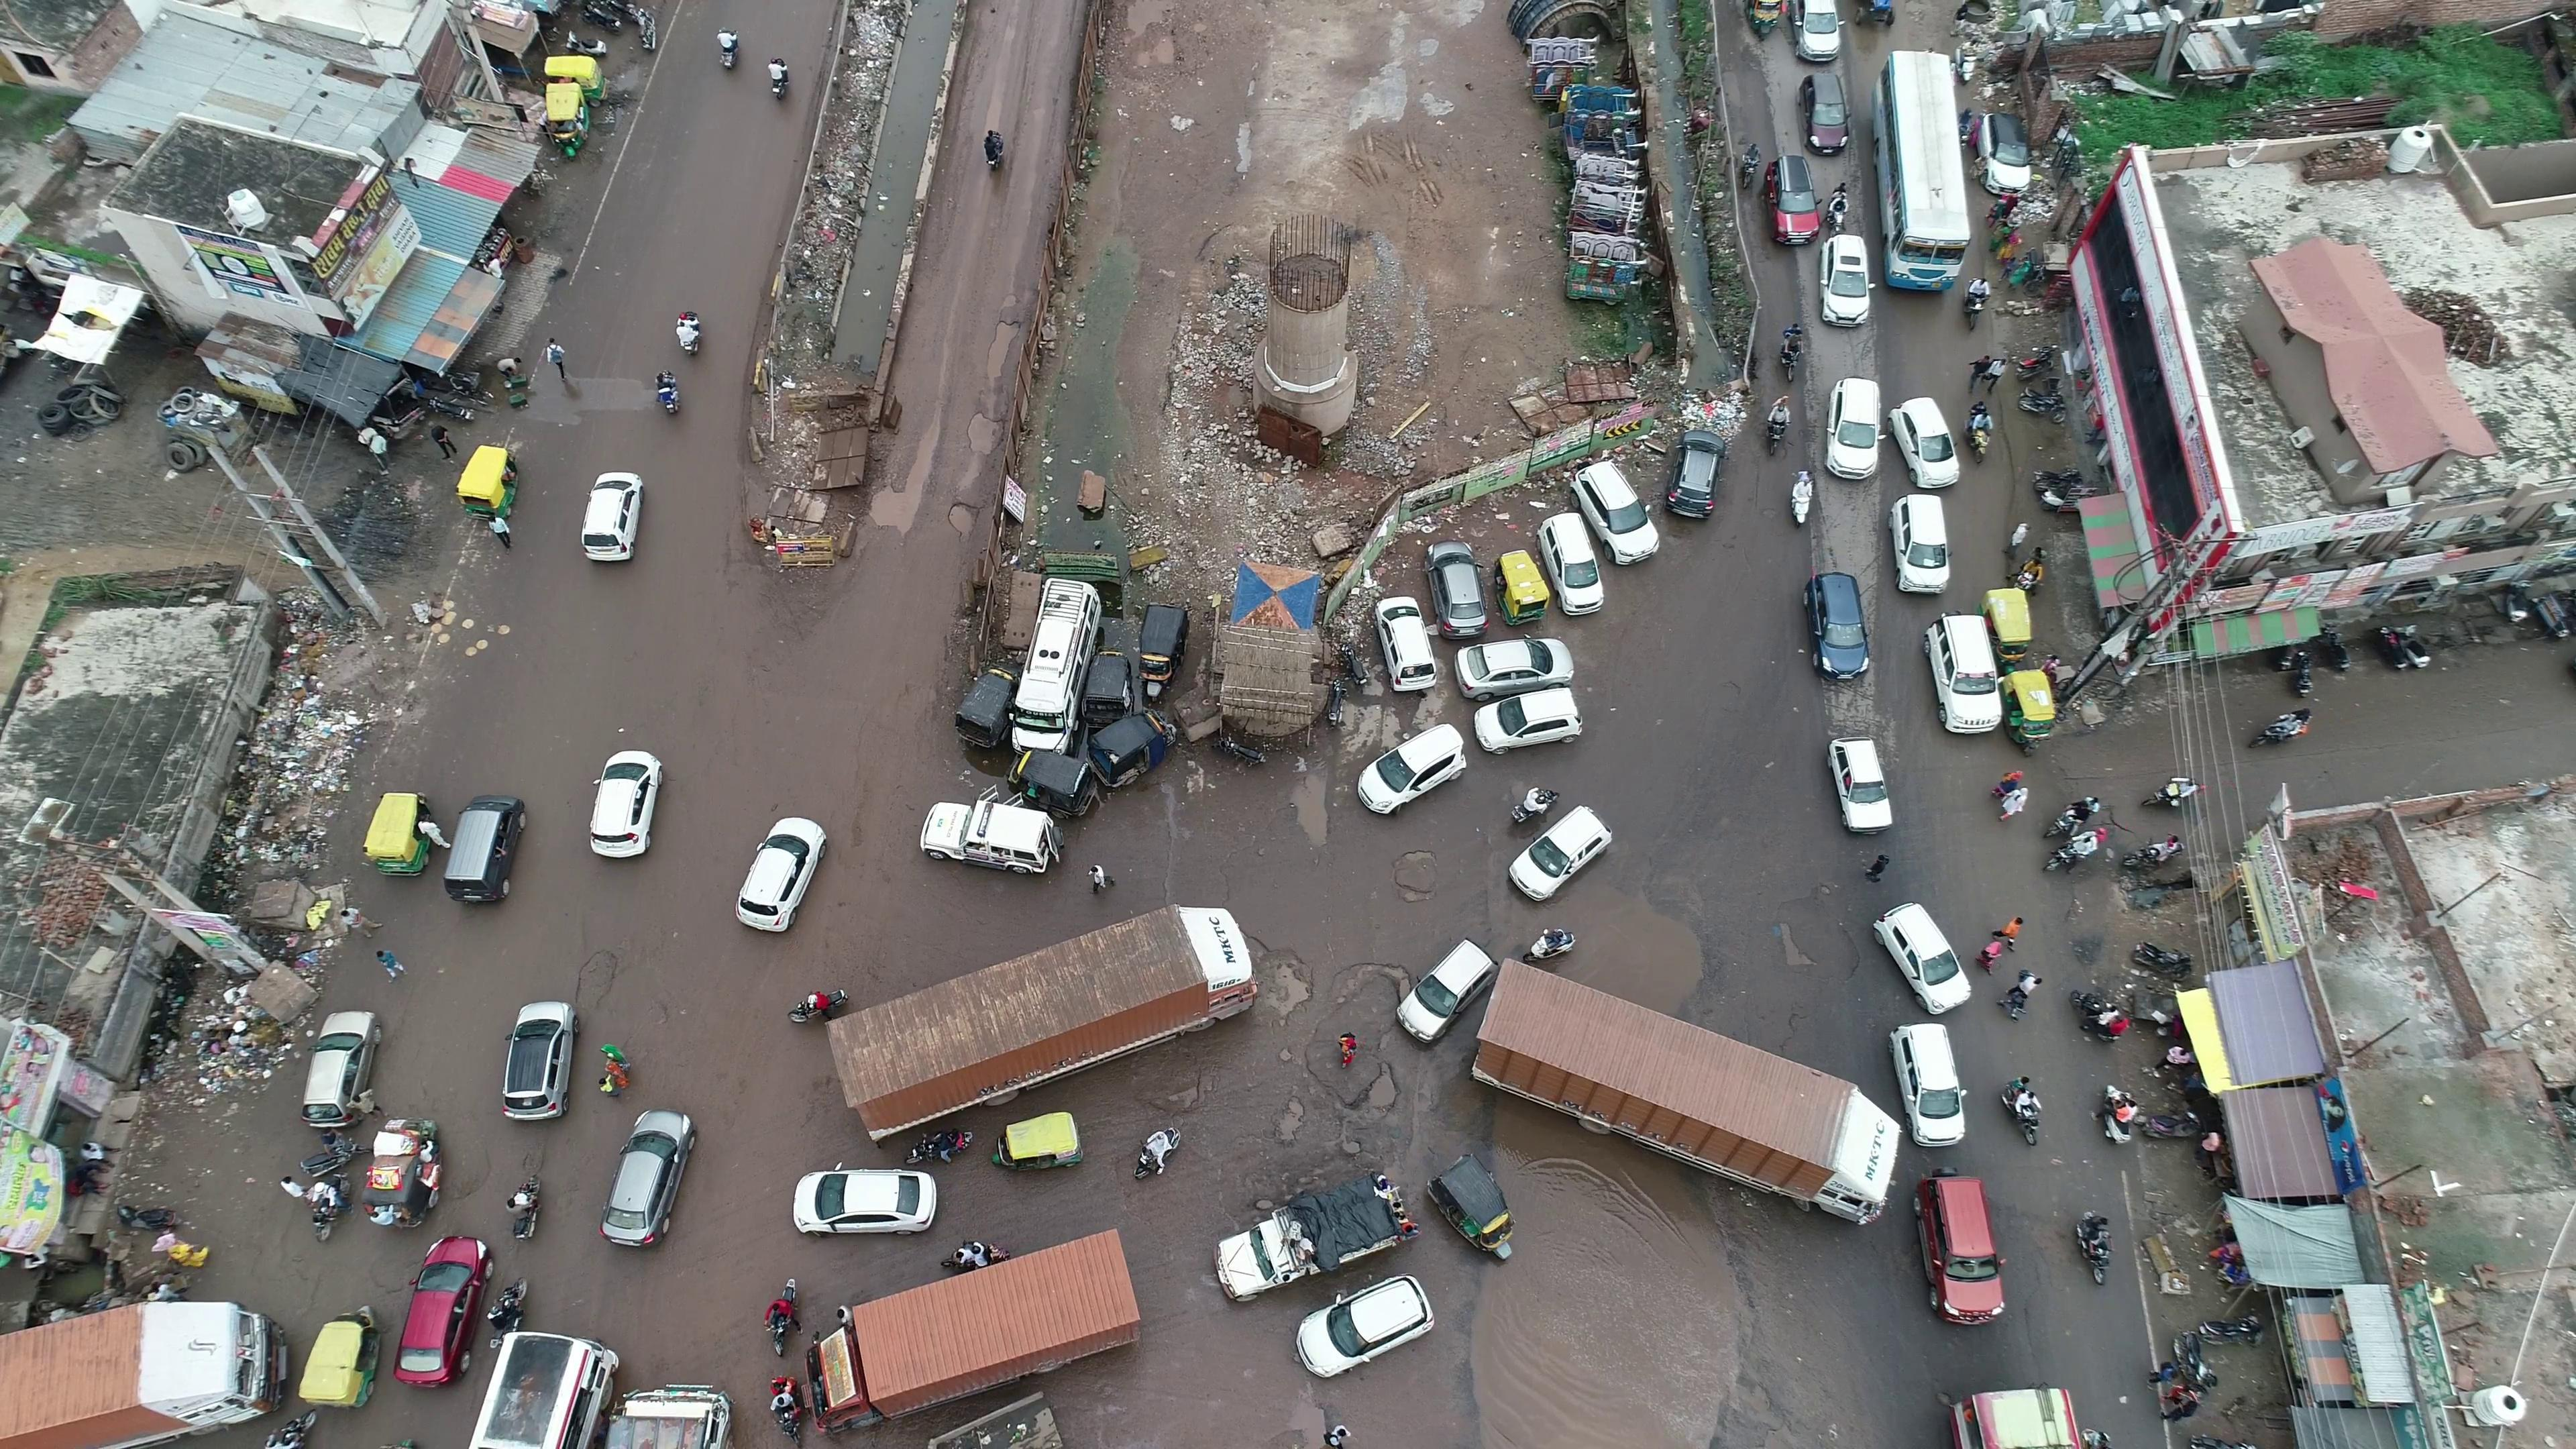Potholes: (1141, 957, 1454, 1231)
